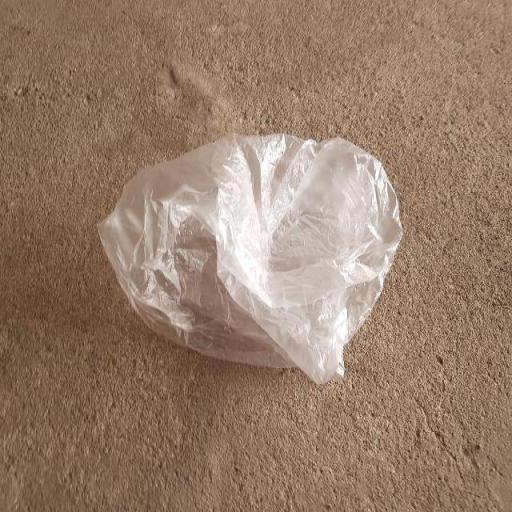plastic-bag: (92, 130, 406, 388)
